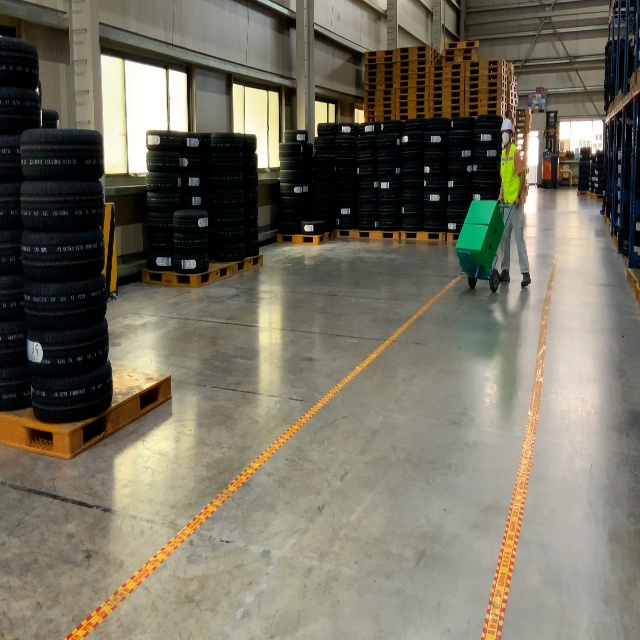Box: (454, 223, 496, 278), (464, 200, 505, 251)
Worker: (499, 117, 532, 288)
